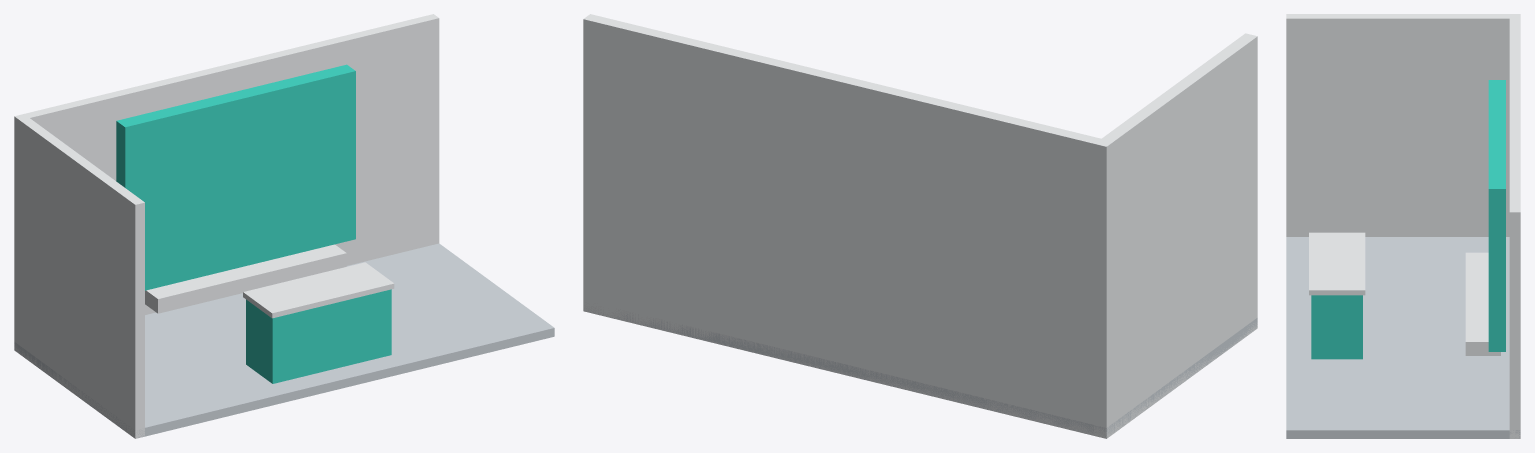
3 renders of one model, left to right at view 1: azimuth 30°, elevation 25°; view 2: azimuth 150°, elevation 25°; view 3: azimuth 270°, elevation 25°, orthographic. The views are drawn at different scales.
Parts seen in each view (by area): view 1: Exhibition Booth Concept; view 2: Exhibition Booth Concept; view 3: Exhibition Booth Concept.
Boxes of the visible parts, x1,y1,x2,y2 form: Exhibition Booth Concept: (14, 14, 554, 438); Exhibition Booth Concept: (583, 14, 1257, 438); Exhibition Booth Concept: (1286, 14, 1520, 438).
Size of the model in its own units: 6 by 3.2 by 3.
